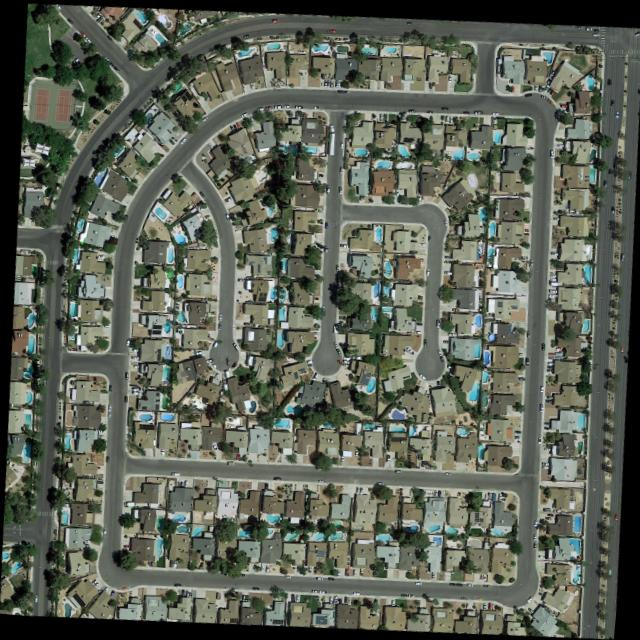large-vehicle: (327, 123, 333, 155), (169, 470, 179, 476), (124, 500, 133, 506), (549, 280, 558, 285), (124, 370, 128, 379), (131, 390, 140, 394), (337, 185, 341, 194), (183, 479, 188, 486), (444, 114, 448, 122), (344, 89, 350, 93), (179, 480, 182, 486)
small-vehicle: (64, 14, 74, 25), (93, 13, 103, 23), (404, 345, 414, 354), (196, 188, 205, 198), (177, 135, 186, 145), (310, 370, 319, 380), (166, 136, 175, 145), (53, 1, 62, 10), (71, 55, 80, 64), (211, 338, 219, 348), (222, 194, 232, 202), (417, 371, 426, 379), (111, 63, 119, 72), (102, 53, 110, 62), (93, 10, 101, 19), (525, 594, 533, 603), (231, 341, 239, 350), (229, 359, 237, 368), (83, 34, 91, 42), (78, 28, 86, 36), (206, 141, 214, 149), (200, 114, 208, 122), (526, 605, 534, 613), (209, 441, 217, 449), (338, 241, 347, 248), (223, 211, 230, 220), (254, 105, 264, 111), (545, 97, 553, 104), (542, 83, 549, 91), (633, 29, 640, 37), (510, 325, 517, 333), (334, 347, 341, 355), (435, 348, 442, 356), (270, 16, 278, 23), (241, 31, 248, 39), (106, 58, 113, 66), (233, 119, 240, 127), (105, 33, 112, 41), (239, 110, 247, 117), (544, 76, 551, 84), (548, 68, 555, 76), (204, 243, 212, 250), (209, 360, 216, 368), (540, 506, 551, 511), (406, 106, 415, 112), (523, 355, 529, 364), (434, 318, 440, 327), (121, 213, 127, 222), (108, 587, 114, 596), (512, 428, 521, 434), (224, 356, 230, 365), (212, 370, 218, 379), (331, 322, 336, 332), (324, 184, 329, 194), (271, 475, 281, 480), (542, 424, 549, 431), (335, 358, 342, 365), (90, 577, 97, 584), (83, 536, 90, 543), (189, 190, 196, 197), (304, 361, 311, 368), (461, 108, 469, 114), (444, 363, 452, 369), (438, 355, 444, 363), (548, 287, 556, 293), (332, 340, 338, 348), (443, 269, 451, 275), (95, 427, 103, 433), (398, 591, 406, 597), (236, 276, 244, 282), (382, 79, 387, 88), (439, 105, 448, 110), (378, 112, 383, 121), (540, 341, 545, 350), (450, 306, 459, 311), (538, 402, 543, 411), (536, 435, 541, 444), (440, 338, 449, 343), (272, 103, 281, 108), (333, 78, 338, 87), (415, 194, 420, 203), (527, 258, 532, 267), (101, 525, 106, 534), (32, 592, 37, 601), (351, 589, 360, 594), (343, 566, 348, 575), (413, 580, 422, 585), (317, 588, 326, 593), (353, 447, 358, 456), (613, 511, 618, 520), (497, 492, 502, 501), (322, 243, 327, 252), (289, 592, 294, 601), (121, 542, 130, 547), (472, 109, 483, 113), (539, 93, 546, 99), (524, 91, 531, 97), (341, 361, 348, 367), (228, 123, 234, 130), (196, 205, 203, 211), (295, 69, 302, 75), (389, 598, 395, 605), (602, 178, 607, 186), (609, 98, 614, 106), (606, 166, 611, 174), (619, 253, 624, 261), (538, 384, 543, 392), (554, 350, 562, 355), (412, 328, 420, 333), (342, 354, 350, 359), (540, 460, 548, 465), (317, 477, 325, 482), (328, 27, 336, 32), (248, 114, 253, 122), (315, 172, 323, 177), (282, 102, 290, 107), (312, 104, 320, 109), (328, 79, 333, 87), (124, 337, 129, 345), (549, 250, 557, 255), (384, 455, 389, 463), (532, 518, 537, 526), (122, 394, 127, 402), (358, 566, 362, 576), (351, 567, 356, 575), (481, 600, 486, 608), (332, 594, 337, 602), (429, 571, 434, 579), (606, 567, 611, 575), (531, 541, 536, 549), (241, 320, 249, 325), (338, 140, 343, 148), (263, 563, 268, 571), (250, 584, 258, 589), (236, 571, 244, 576), (172, 581, 180, 586), (234, 451, 239, 459), (549, 149, 553, 158), (614, 109, 618, 118), (610, 203, 614, 212), (435, 378, 439, 387), (547, 293, 556, 297), (540, 465, 549, 469), (249, 80, 253, 89), (425, 266, 429, 275), (104, 453, 108, 462), (102, 585, 108, 591), (92, 580, 98, 586), (342, 594, 346, 603), (320, 304, 324, 313), (168, 558, 172, 567), (240, 591, 244, 600), (97, 253, 104, 258), (549, 88, 554, 95), (546, 86, 551, 93), (491, 110, 498, 115), (559, 102, 566, 107), (546, 360, 553, 365), (517, 375, 524, 380), (554, 345, 561, 350), (544, 398, 551, 403), (542, 420, 549, 425), (446, 331, 453, 336), (549, 272, 556, 277), (549, 276, 556, 281), (619, 344, 624, 351), (342, 358, 349, 363), (231, 122, 236, 129), (264, 104, 271, 109), (131, 346, 138, 351), (418, 241, 425, 246), (444, 471, 451, 476), (315, 575, 322, 580), (310, 587, 317, 592), (551, 215, 558, 220), (106, 403, 111, 410), (106, 410, 111, 417), (478, 572, 483, 579), (334, 568, 339, 575), (406, 592, 413, 597), (339, 455, 344, 462), (546, 511, 553, 516), (537, 553, 544, 558), (436, 489, 441, 496), (358, 486, 363, 493), (443, 253, 450, 258), (304, 358, 311, 363), (204, 357, 211, 362), (259, 562, 264, 569), (119, 585, 126, 590), (159, 447, 164, 454), (510, 84, 514, 92), (427, 80, 431, 88), (447, 74, 451, 82), (424, 108, 432, 112), (573, 24, 581, 28), (606, 76, 610, 84), (542, 446, 550, 450), (422, 338, 426, 346), (41, 378, 45, 386), (130, 355, 138, 359), (294, 104, 302, 108), (294, 109, 298, 117), (336, 88, 344, 92), (325, 78, 329, 86), (107, 382, 111, 390), (326, 575, 334, 579), (552, 508, 560, 512), (543, 515, 551, 519), (433, 488, 437, 496), (375, 480, 383, 484), (354, 485, 358, 493), (217, 312, 221, 320), (294, 593, 298, 601), (323, 220, 327, 228), (192, 244, 200, 248), (185, 245, 193, 249), (338, 165, 342, 173), (306, 564, 310, 572), (184, 588, 188, 596), (547, 350, 553, 355), (415, 320, 421, 325), (448, 228, 454, 233), (536, 590, 542, 595), (482, 582, 488, 587), (405, 20, 412, 24), (626, 171, 630, 178), (556, 142, 563, 146), (554, 113, 558, 120), (554, 355, 561, 359), (545, 364, 552, 368), (522, 231, 529, 235), (443, 218, 447, 225), (426, 234, 430, 241), (459, 595, 466, 599), (475, 596, 482, 600), (522, 227, 529, 231), (358, 193, 362, 200), (394, 189, 398, 196), (96, 433, 103, 437), (337, 597, 341, 604), (448, 115, 452, 122), (465, 582, 472, 586), (334, 263, 338, 270), (311, 295, 318, 299), (216, 322, 220, 329), (310, 330, 317, 334), (180, 588, 184, 595), (537, 84, 541, 90), (533, 83, 536, 91), (592, 27, 598, 31), (545, 368, 553, 371), (546, 394, 552, 398), (528, 270, 531, 278), (322, 78, 325, 86), (301, 111, 305, 117), (132, 363, 138, 367), (417, 257, 423, 261), (526, 329, 529, 337), (284, 574, 290, 578), (96, 479, 102, 483), (93, 464, 99, 468), (328, 596, 332, 602), (448, 581, 454, 585), (512, 434, 518, 438), (455, 582, 461, 586), (591, 32, 598, 35), (547, 355, 554, 358), (305, 111, 308, 118), (394, 469, 401, 472), (532, 533, 535, 540), (482, 572, 485, 579), (487, 601, 490, 608), (585, 26, 591, 29), (310, 335, 316, 338)
